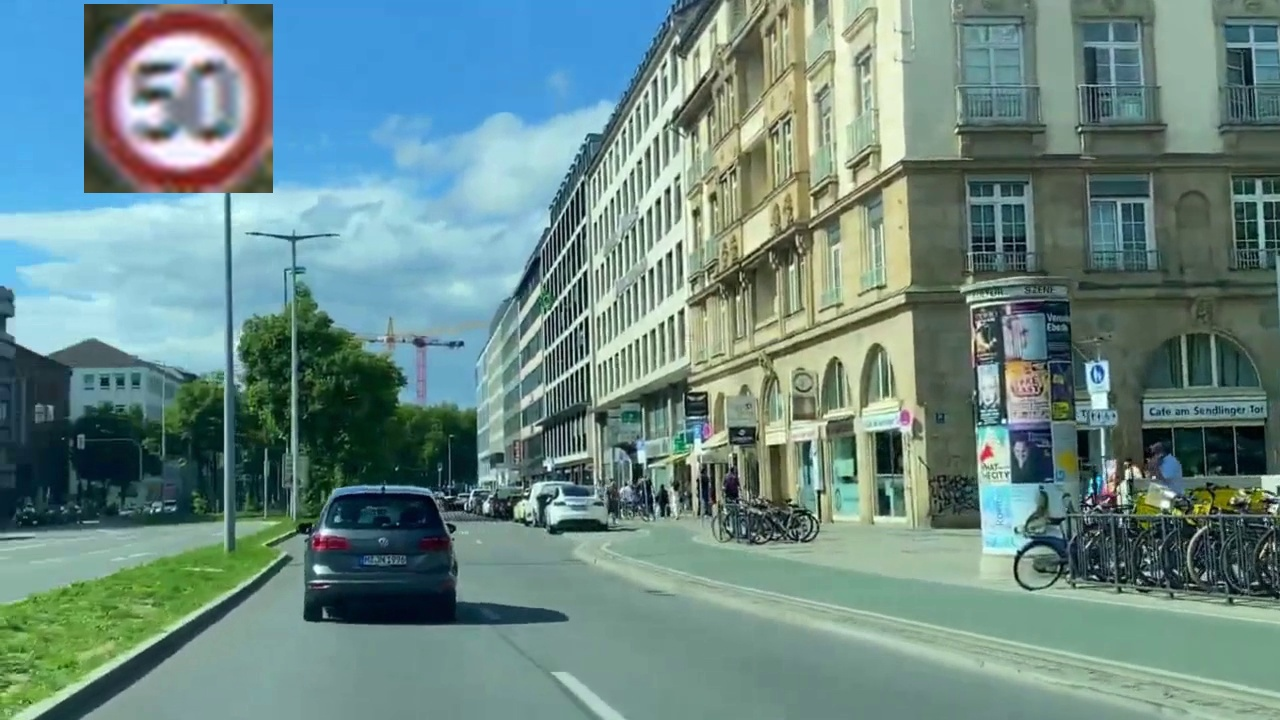Speed 50: (84, 4, 273, 193)
